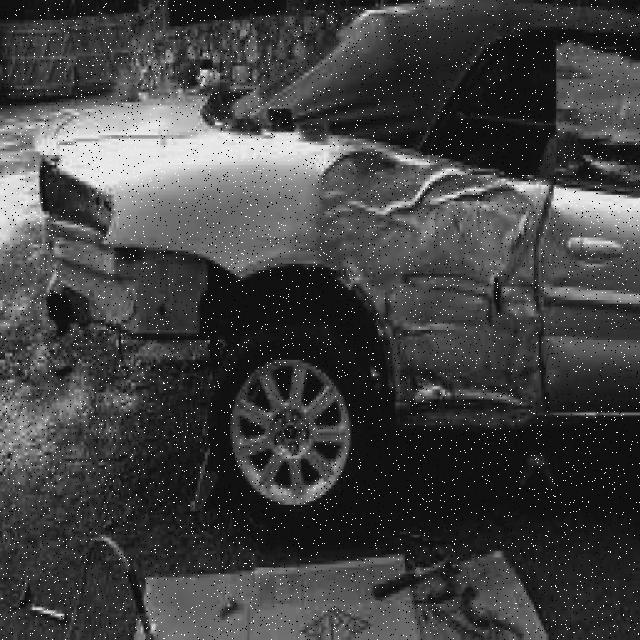car damage: (316, 138, 554, 435), (39, 149, 309, 358)
